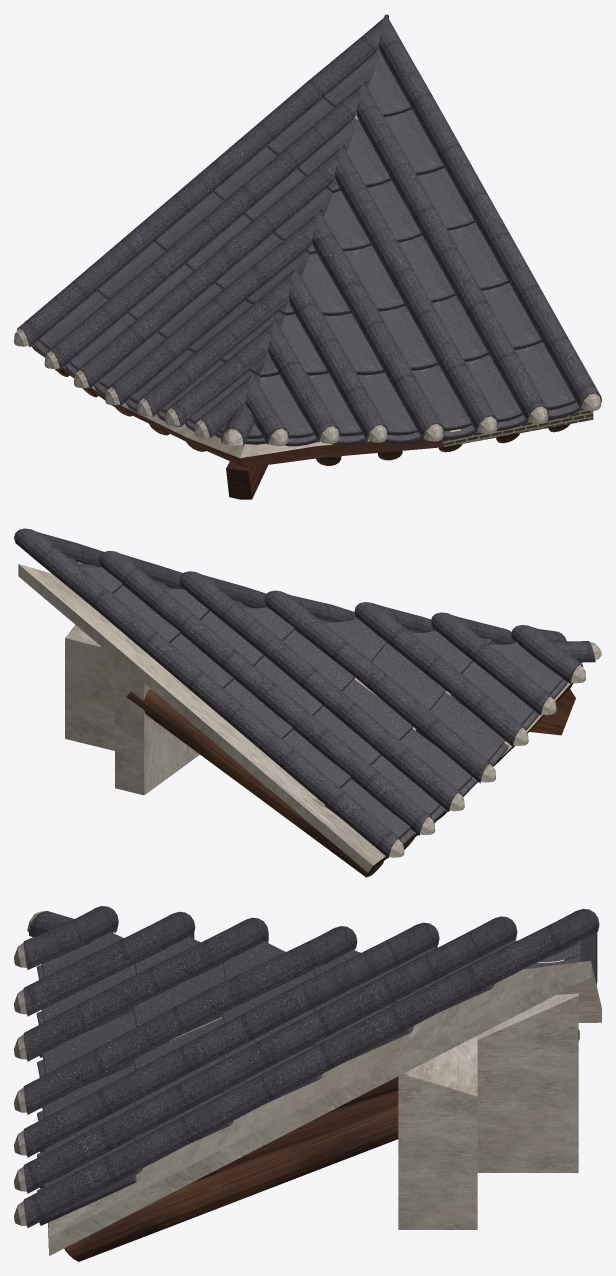
File: SM_R_RoofCorner_3.fbx
3 renders of one model, top to bottom at view 1: azimuth 30°, elevation 25°; view 2: azimuth 150°, elevation 25°; view 3: azimuth 270°, elevation 25°, orthographic. The views are drawn at different scales.
Parts seen in each view (by area): view 1: SM_R_RoofCorner_3; view 2: SM_R_RoofCorner_3; view 3: SM_R_RoofCorner_3.
Boxes of the visible parts, x1=… form: SM_R_RoofCorner_3: x1=14, y1=14, x2=601, y2=499; SM_R_RoofCorner_3: x1=14, y1=528, x2=601, y2=877; SM_R_RoofCorner_3: x1=14, y1=906, x2=601, y2=1261.
Size of the model in its own units: 270 by 271 by 184.
Materials: 4 (4 with a texture image).
